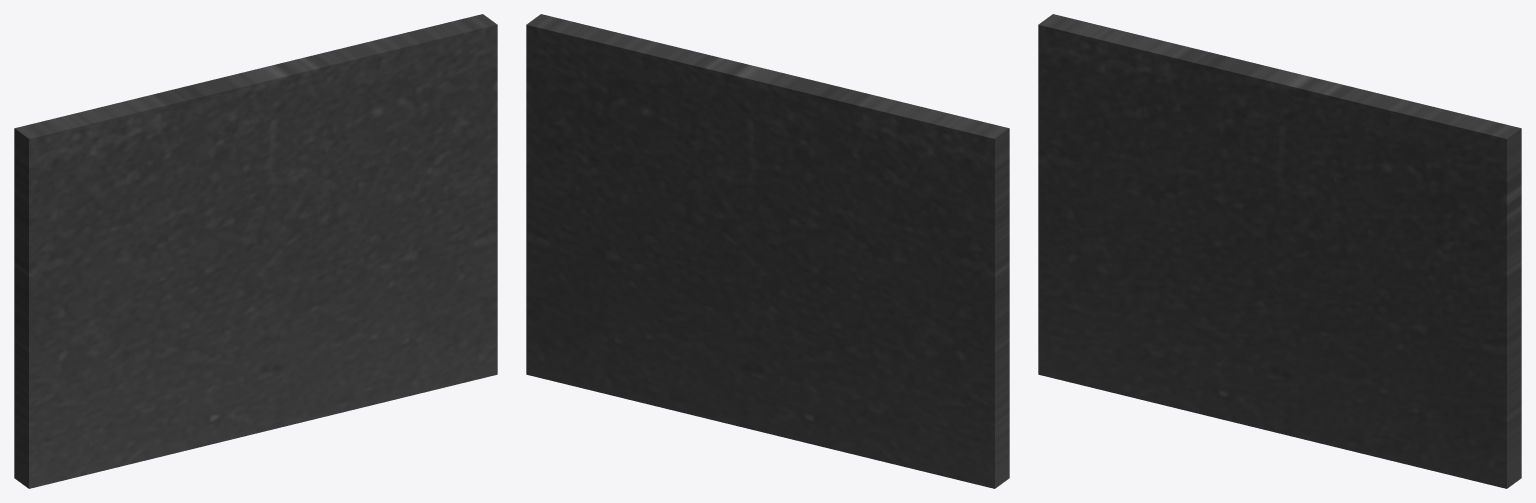
File: emergency_trapdoor.obj
3 views of the same model, side by side, from view 1: azimuth 30°, elevation 25°; view 2: azimuth 150°, elevation 25°; view 3: azimuth 330°, elevation 25° (orthographic).
Visible parts, largest first — view 1: M_PaintMetal; view 2: M_PaintMetal; view 3: M_PaintMetal.
Part boxes in pixels (x1,y1,x2,y2): M_PaintMetal: [14, 14, 497, 488]; M_PaintMetal: [526, 14, 1009, 488]; M_PaintMetal: [1038, 14, 1521, 488].
Bounding box in the file's own units: 0.6254 × 0.4463 × 0.034.
Materials: 1 (1 with a texture image).
